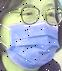with_mask: (2, 1, 62, 71)
